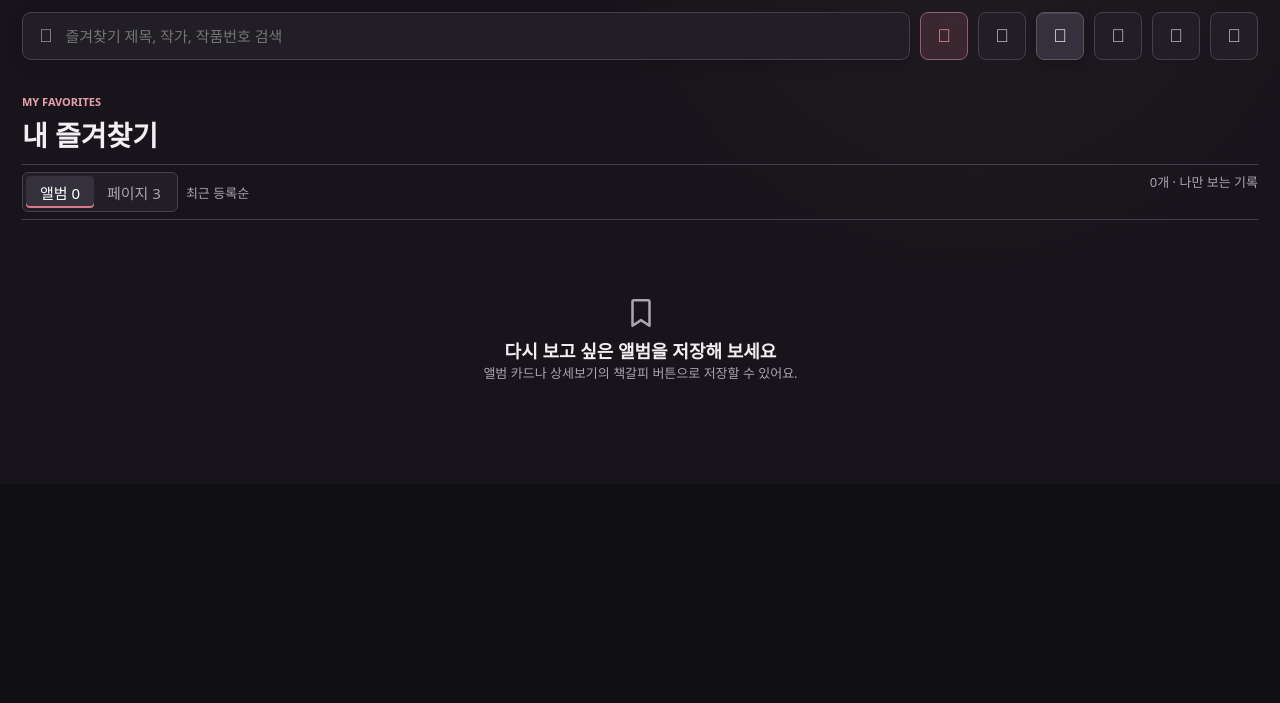
Test: private favorites and collections › loads a bounded list, opens the precise page and checks its state again before opening
Click the button "페이지 3" at (134, 192), box [94,176,174,208]
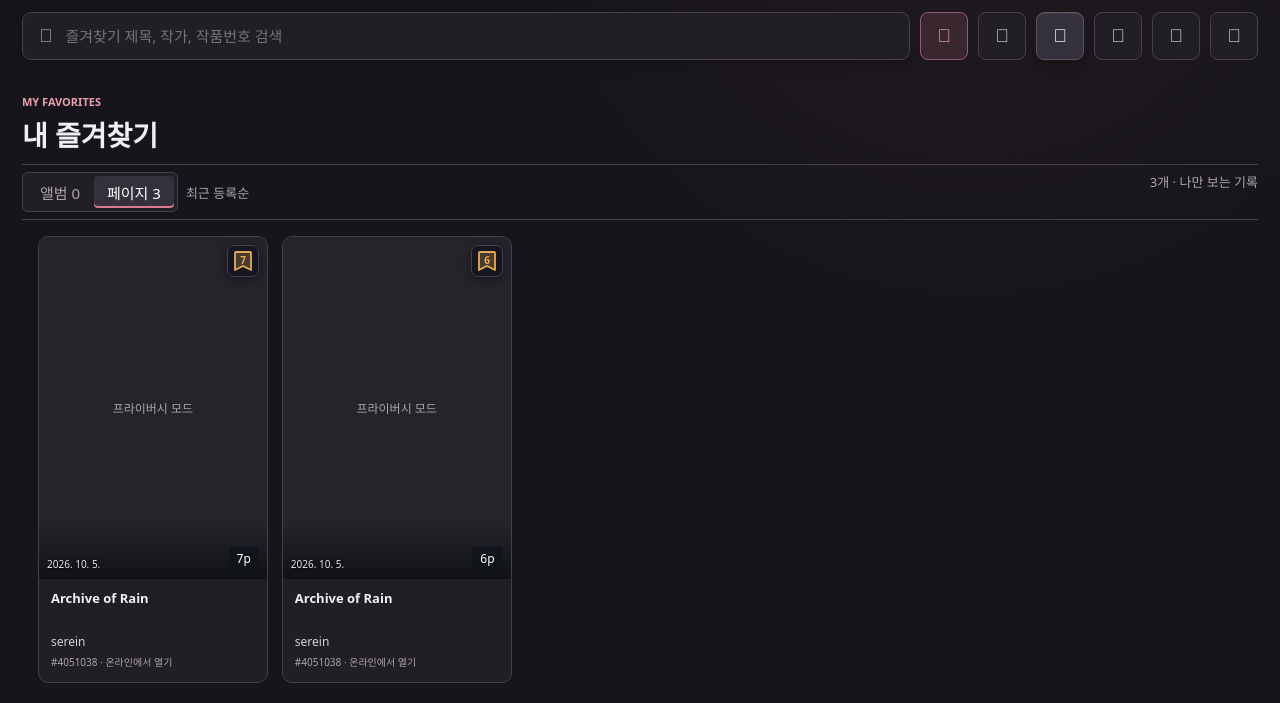
Expected: the number of list items with class "saved-card" is 2, [38,236,268,683]; [282,236,512,683]
Click the 1st button with class "saved-card-preview" at (153, 408), box [39,237,267,579]
(page scrolled)
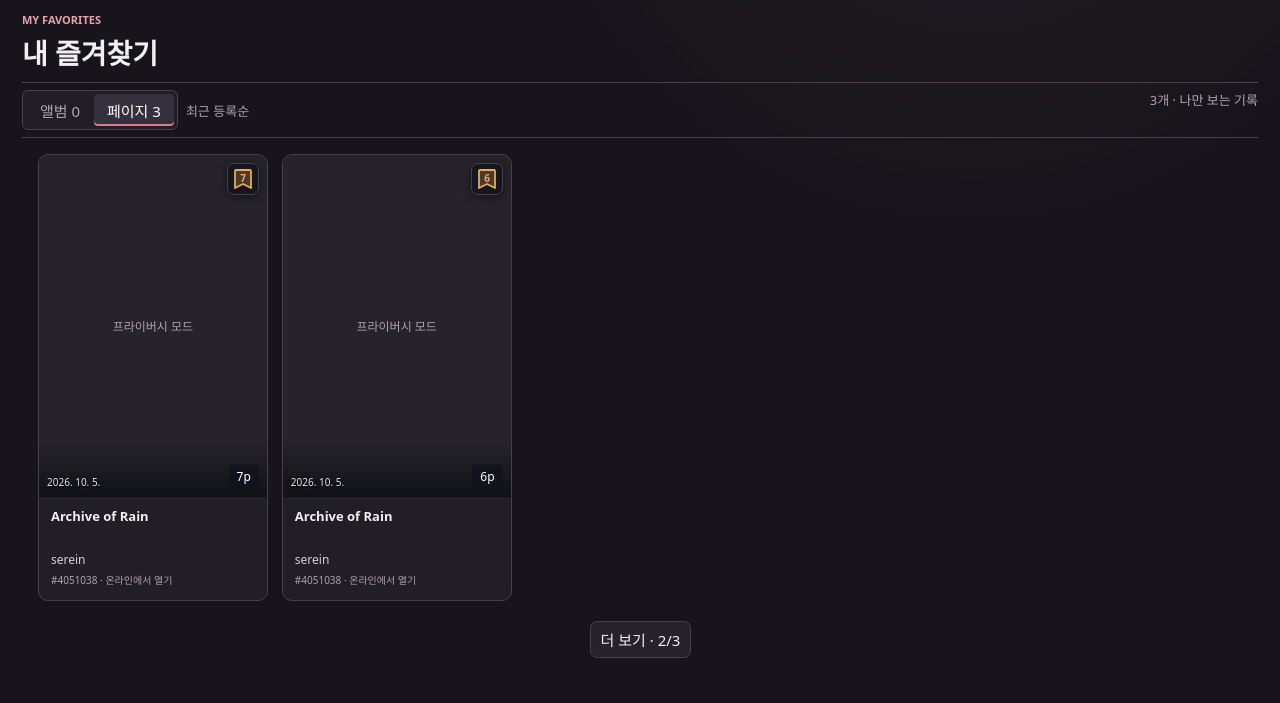
Click the button "더 보기 · 2/3" at (640, 639), box [590,621,691,658]
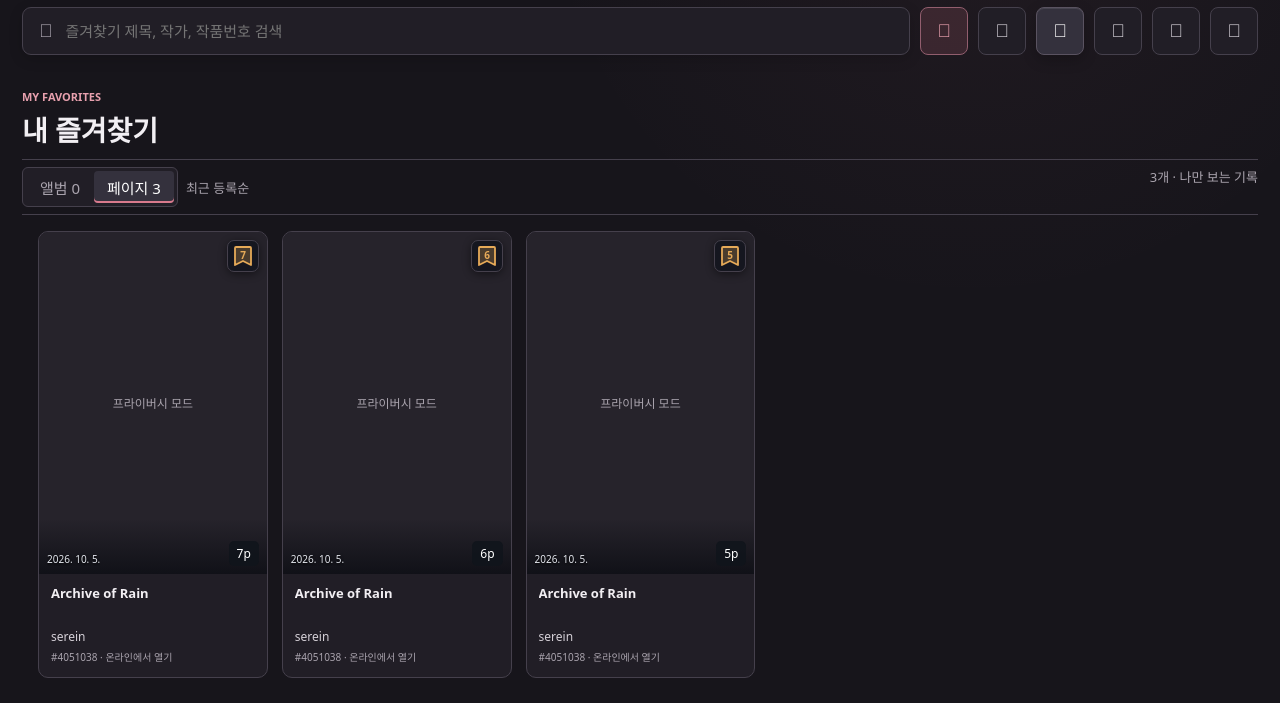
Expected: the number of list items with class "saved-card" is 3, [38,231,268,678]; [282,231,512,678]; [526,231,755,678]
